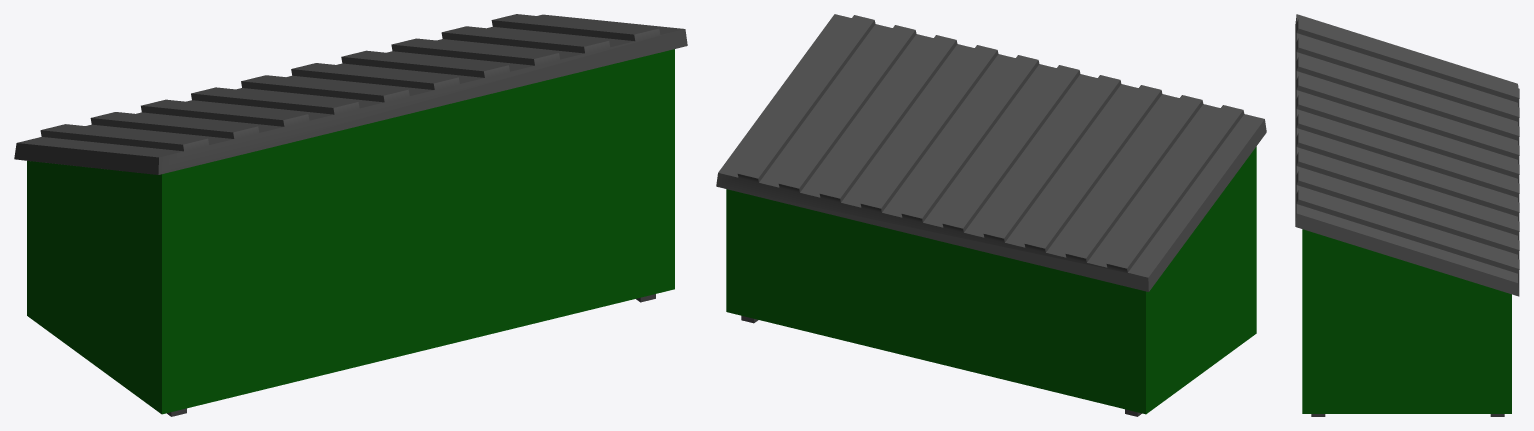
Rendered from dumpster.fbx.
3 renders of one model, left to right at view 1: azimuth 30°, elevation 25°; view 2: azimuth 150°, elevation 25°; view 3: azimuth 270°, elevation 25°, orthographic. The views are drawn at different scales.
Parts seen in each view (by area): view 1: Dumpster; view 2: Dumpster; view 3: Dumpster.
Part boxes in pixels (x1,y1,x2,y2): Dumpster: (14,14,687,416); Dumpster: (716,14,1266,416); Dumpster: (1295,14,1519,416).
Size of the model in its own units: 543 by 272 by 257.
